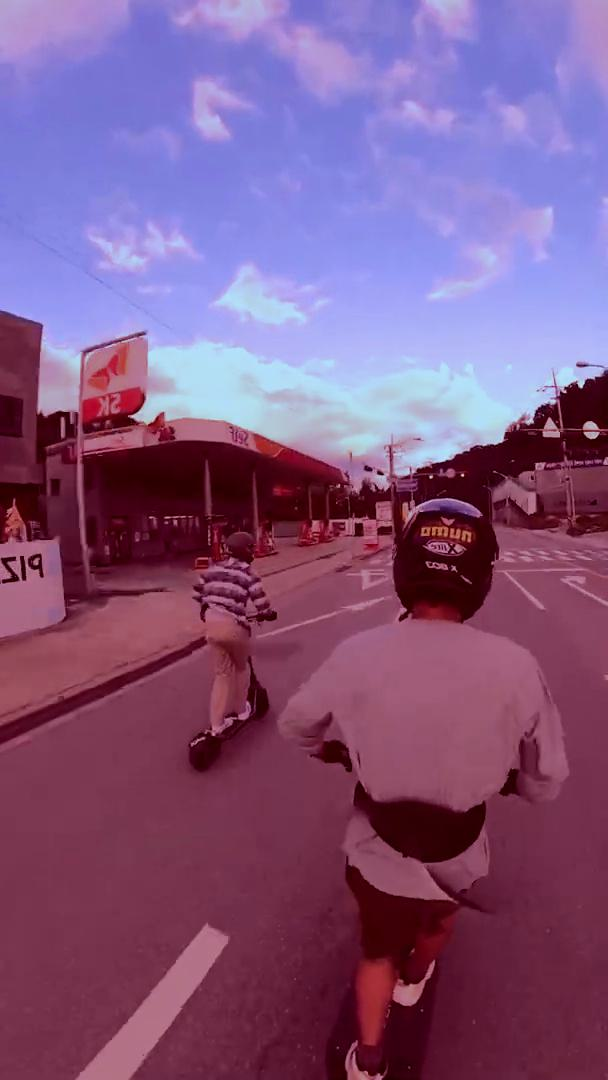helmet: (275, 495, 571, 1080), (182, 529, 279, 774)
